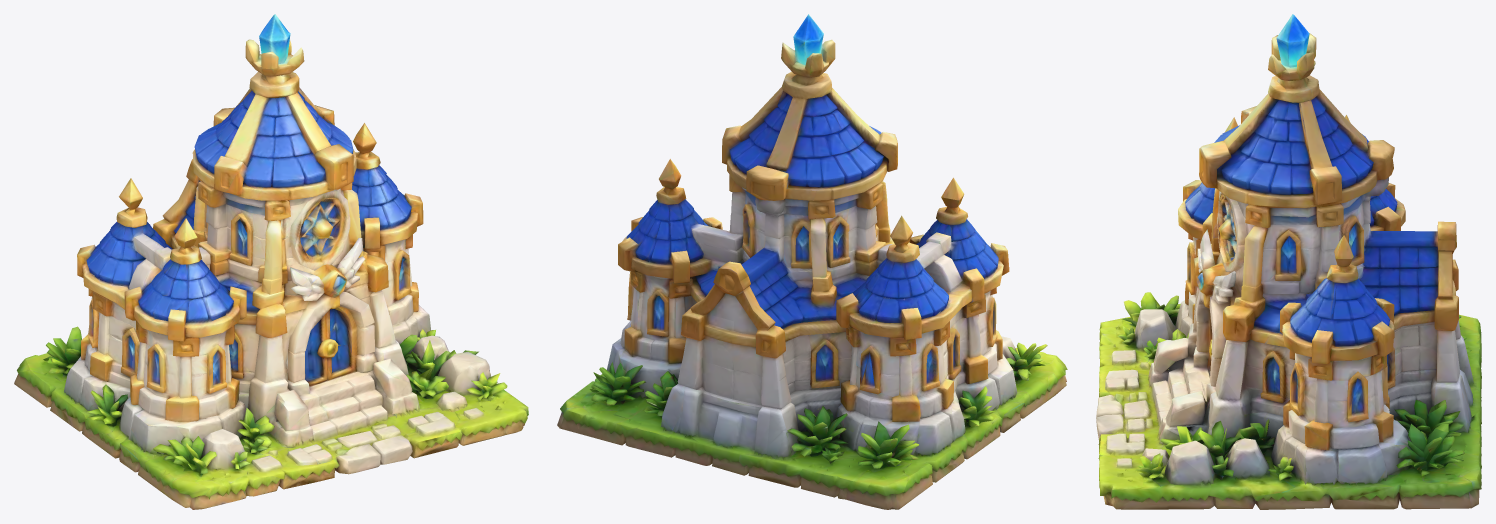
Rendered from eu_core.glb.
3 views of the same model, side by side, from view 1: azimuth 30°, elevation 25°; view 2: azimuth 150°, elevation 25°; view 3: azimuth 270°, elevation 25° (orthographic). The views are drawn at different scales.
Visible parts, largest first — view 1: model; view 2: model; view 3: model.
Part boxes in pixels (bbox=[...]): model: bbox=[14, 14, 528, 509]; model: bbox=[557, 14, 1067, 509]; model: bbox=[1096, 14, 1481, 509].
Size of the model in its own units: 1.81 by 1.9 by 1.62.
Materials: 1 (1 with a texture image).
